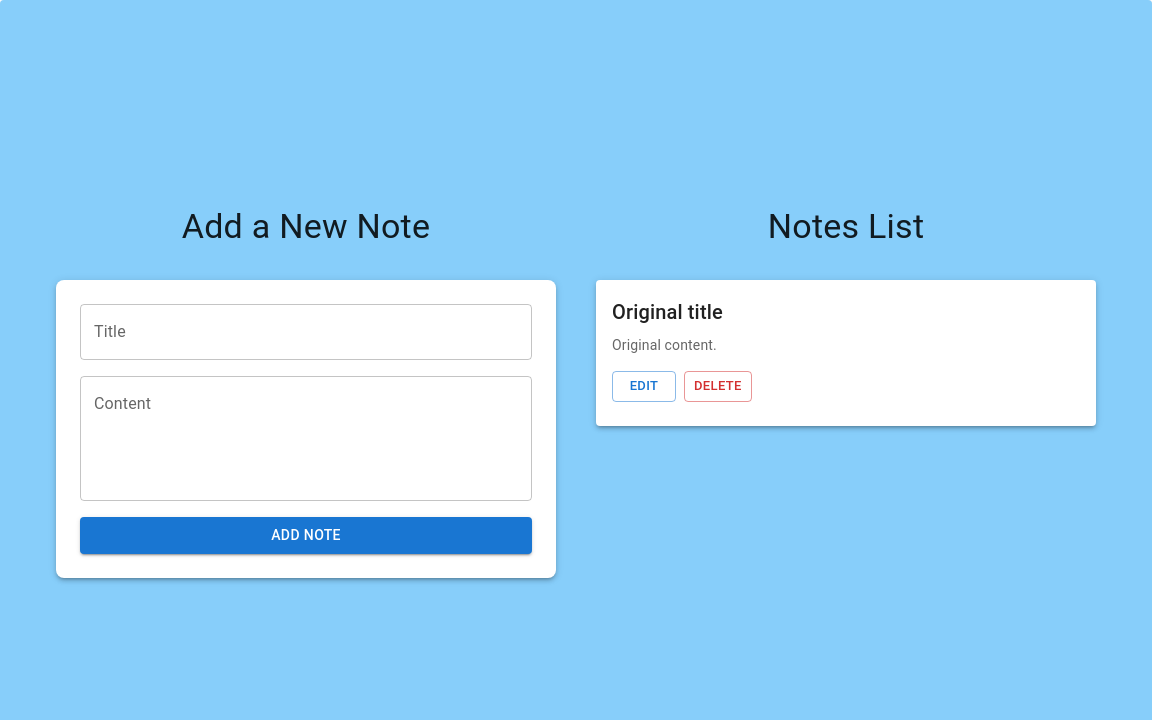
Test: cancels editing without updating the note
What coordinates should you click on to do the following:
click the button "Edit"
I would click on:
 (644, 387)
Its box is [612, 371, 676, 402].
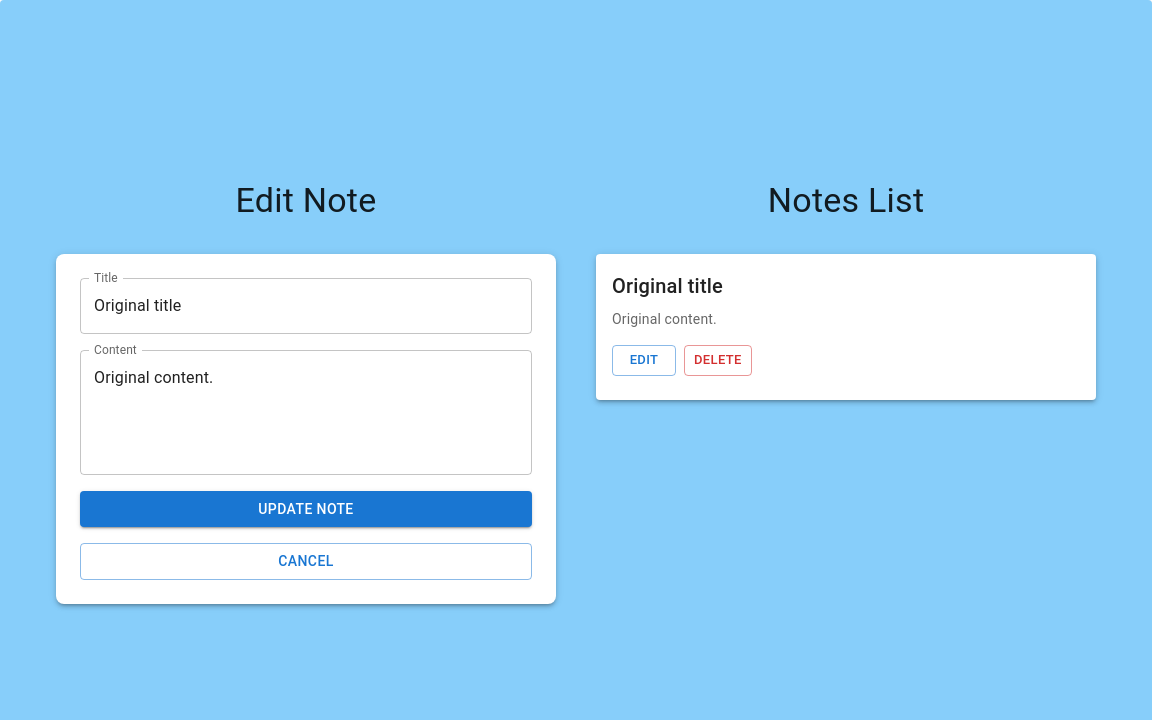
What coordinates should you click on to do the following:
click the button "Cancel"
I would click on:
 (306, 562)
Its box is [80, 544, 532, 580].
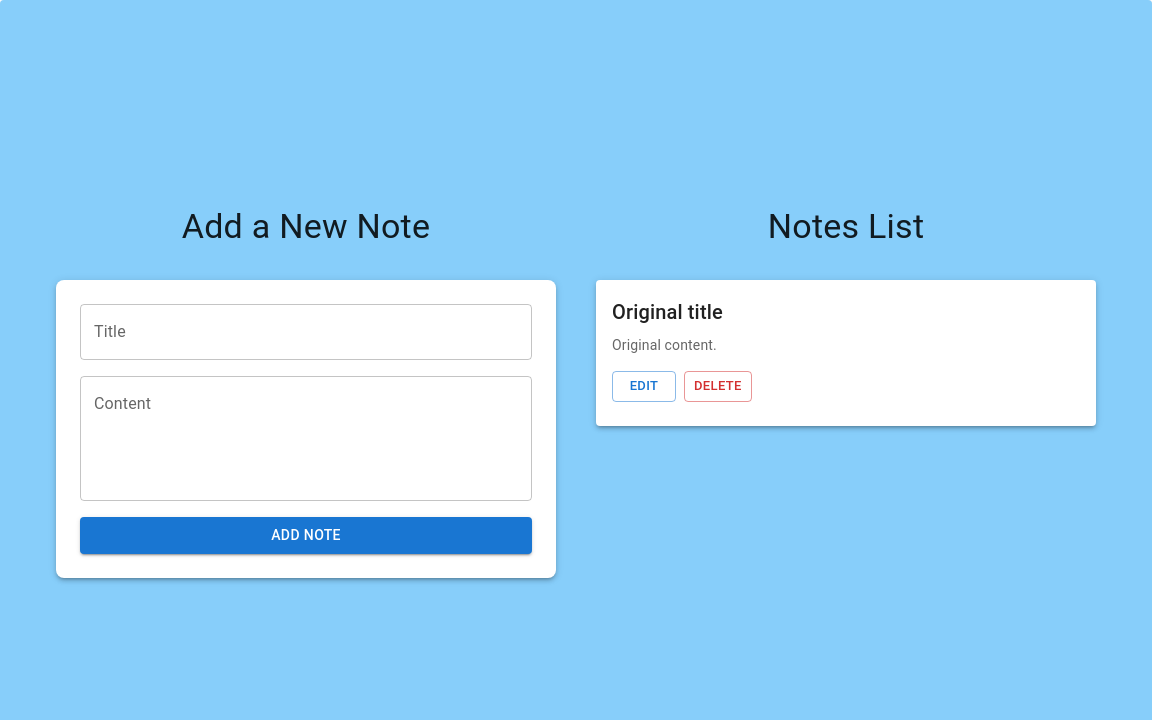
Expected: the heading "Original title" is shown, [612, 300, 723, 324]
Expected: the heading "Add a New Note" is shown, [182, 206, 430, 246]
